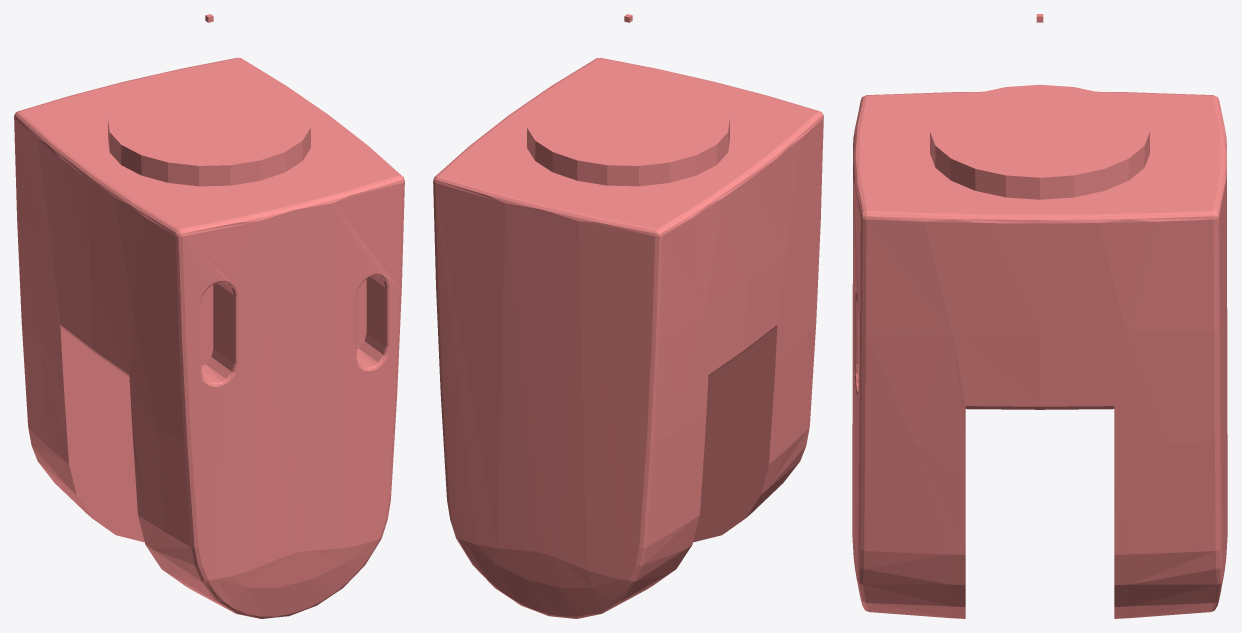
The model's file is body2_4.obj.
The picture shows the model from 3 angles, left to right: view 1: azimuth 30°, elevation 25°; view 2: azimuth 150°, elevation 25°; view 3: azimuth 270°, elevation 25°; orthographic projection. The views are drawn at different scales.
Visible parts, largest first — view 1: Body4; view 2: Body4; view 3: Body4.
Part boxes in pixels (x1=…): Body4: x1=14, y1=14, x2=404, y2=618; Body4: x1=433, y1=14, x2=823, y2=618; Body4: x1=852, y1=14, x2=1227, y2=618.
Bounding box in the file's own units: 93.94 × 202 × 116.
